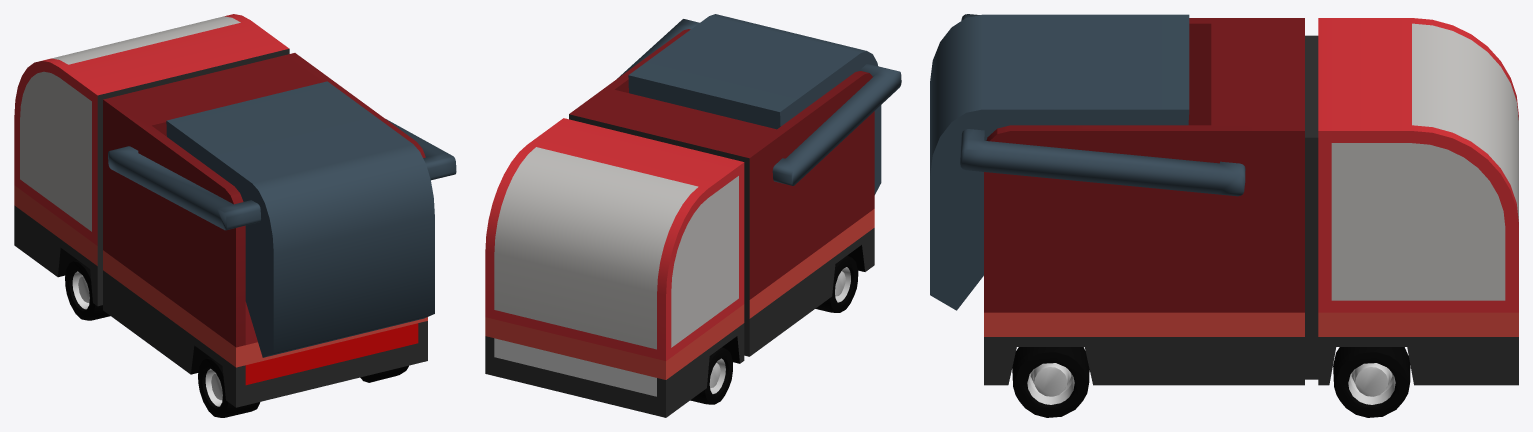
The model's file is SM_GarbageTruck_Red.glb.
The picture shows the model from 3 angles, left to right: view 1: azimuth 30°, elevation 25°; view 2: azimuth 150°, elevation 25°; view 3: azimuth 270°, elevation 25°; orthographic projection. The views are drawn at different scales.
Visible parts, largest first — view 1: BodyRed, Rear, WheelsRear, Wheels.Front; view 2: BodyRed, Rear, Wheels.Front, WheelsRear; view 3: BodyRed, Rear, Wheels.Front, WheelsRear.
Part boxes in pixels (box(x1,y1,x2,y2)): BodyRed: box(14, 14, 427, 407); Rear: box(108, 81, 456, 357); WheelsRear: box(198, 357, 408, 417); Wheels.Front: box(65, 259, 110, 320); BodyRed: box(485, 29, 874, 417); Rear: box(617, 14, 901, 194); Wheels.Front: box(690, 347, 732, 404); WheelsRear: box(815, 255, 858, 312); BodyRed: box(984, 18, 1518, 385); Rear: box(930, 14, 1245, 310); Wheels.Front: box(1333, 347, 1410, 417); WheelsRear: box(1012, 347, 1089, 417).
Bounding box in the file's own units: 2.41 × 2.51 × 4.4.
